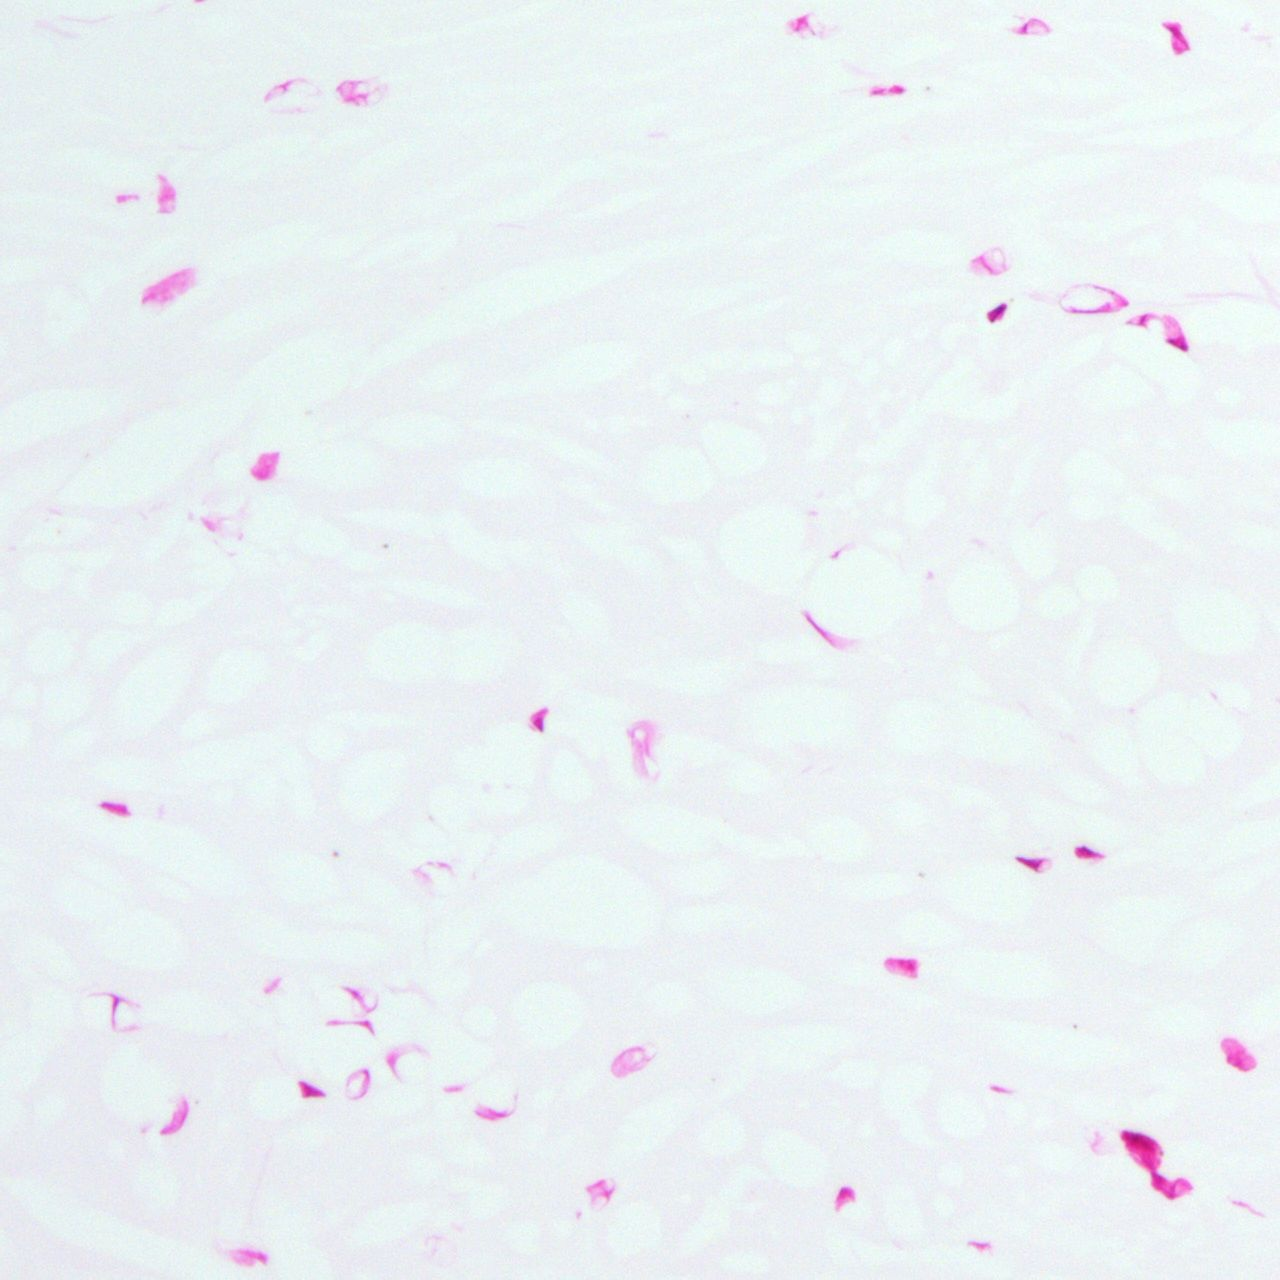nucleus-FG: (1111, 1125, 1169, 1175), (1073, 842, 1103, 865), (527, 706, 554, 731), (985, 301, 1012, 324)
